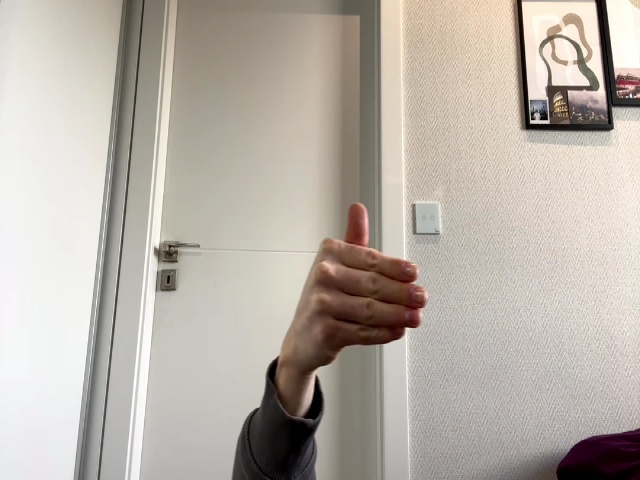M: (296, 204, 428, 373)
